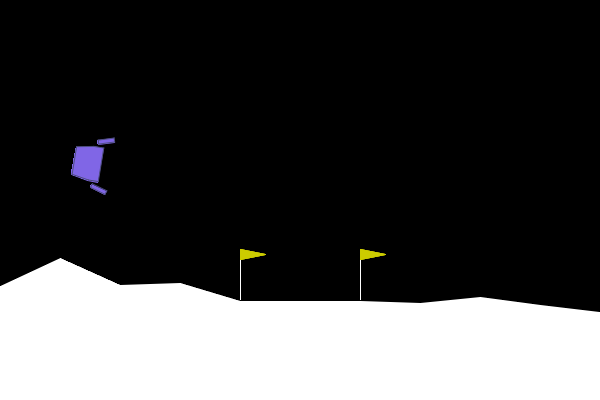lander: (67, 131, 116, 197)
